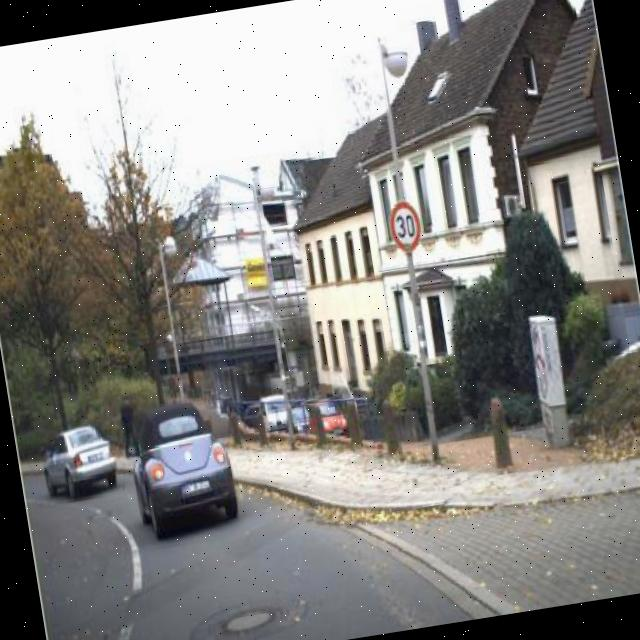Ograniczenie predkosci do 30: (385, 198, 425, 258)
